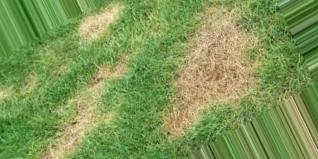patch: (212, 16, 255, 94), (190, 55, 212, 107), (169, 111, 190, 127), (84, 94, 97, 118), (74, 118, 87, 139), (86, 17, 101, 34), (57, 139, 70, 155), (101, 62, 124, 71)
